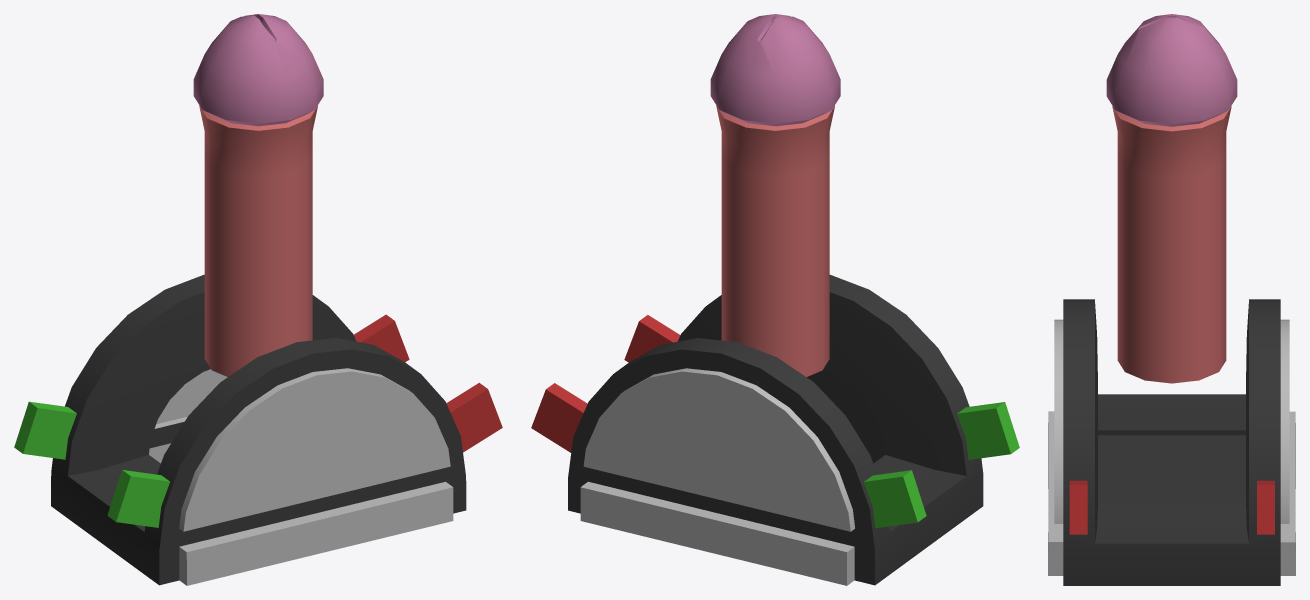
File: DickSchalter.fbx
The picture shows the model from 3 angles, left to right: view 1: azimuth 30°, elevation 25°; view 2: azimuth 150°, elevation 25°; view 3: azimuth 270°, elevation 25°; orthographic projection.
Visible parts, largest first — view 1: Schalter, makenoice, Penis, JustTheTip, ON, OFF; view 2: Schalter, makenoice, Penis, JustTheTip, ON, OFF; view 3: Schalter, Penis, JustTheTip, makenoice, OFF.
Boxes of the visible parts, left/top/right/bottom form: Schalter: left=51, top=274, right=466, bottom=585; makenoice: left=149, top=368, right=453, bottom=585; Penis: left=199, top=105, right=317, bottom=376; JustTheTip: left=193, top=14, right=323, bottom=126; ON: left=14, top=401, right=169, bottom=527; OFF: left=354, top=314, right=502, bottom=452; Schalter: left=568, top=274, right=983, bottom=585; makenoice: left=580, top=368, right=854, bottom=585; Penis: left=716, top=105, right=834, bottom=376; JustTheTip: left=710, top=14, right=840, bottom=126; ON: left=864, top=402, right=1019, bottom=528; OFF: left=531, top=315, right=680, bottom=452; Schalter: left=1063, top=299, right=1280, bottom=585; Penis: left=1112, top=106, right=1231, bottom=383; JustTheTip: left=1106, top=14, right=1237, bottom=126; makenoice: left=1048, top=319, right=1295, bottom=575; OFF: left=1069, top=480, right=1274, bottom=534.
Bounding box in the file's own units: 413 × 502 × 228.
